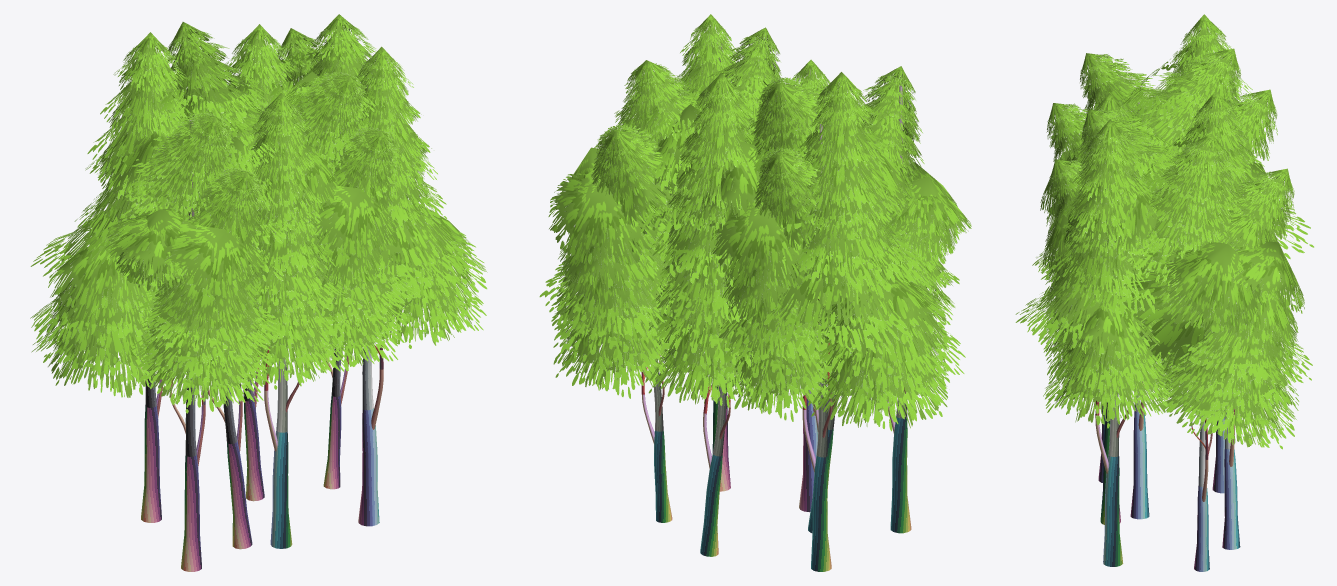
The model's file is forest.fbx.
3 views of the same model, side by side, from view 1: azimuth 30°, elevation 25°; view 2: azimuth 150°, elevation 25°; view 3: azimuth 270°, elevation 25° (orthographic). The views are drawn at different scales.
Parts seen in each view (by area): view 1: Cylinder.004, Cylinder.005, Cylinder.003, Cylinder.002, Cylinder.008, Cylinder.007, Cylinder.009, Cylinder.018, Cylinder.013, Cylinder, Cylinder.014, Cylinder.019 (+13 smaller); view 2: Cylinder.019, Cylinder.016, Cylinder.014, Cylinder.017, Cylinder.013, Cylinder.018, Cylinder.020, Cylinder.015, Cylinder.012, Cylinder.004, Cylinder.008, Cylinder.005 (+11 smaller); view 3: Cylinder.019, Cylinder.016, Cylinder.004, Cylinder.018, Cylinder.013, Cylinder.020, Cylinder.005, Cylinder.003, Cylinder.015, Cylinder.008, Cylinder.009, Cylinder.012 (+12 smaller).
Boxes of the visible parts, bbox=[...] form: Cylinder.004: bbox=[104, 175, 484, 367]; Cylinder.005: bbox=[116, 128, 446, 334]; Cylinder.003: bbox=[131, 188, 487, 387]; Cylinder.002: bbox=[136, 269, 486, 413]; Cylinder.008: bbox=[163, 75, 421, 233]; Cylinder.007: bbox=[146, 83, 431, 261]; Cylinder.009: bbox=[173, 66, 413, 222]; Cylinder.018: bbox=[113, 30, 376, 107]; Cylinder.013: bbox=[100, 47, 373, 140]; Cylinder: bbox=[185, 46, 405, 203]; Cylinder.014: bbox=[30, 228, 160, 363]; Cylinder.019: bbox=[30, 154, 409, 312]; Cylinder.019: bbox=[539, 170, 950, 363]; Cylinder.016: bbox=[558, 104, 920, 332]; Cylinder.014: bbox=[551, 223, 965, 398]; Cylinder.017: bbox=[553, 315, 949, 431]; Cylinder.013: bbox=[591, 84, 892, 225]; Cylinder.018: bbox=[594, 71, 876, 210]; Cylinder.020: bbox=[599, 95, 905, 256]; Cylinder.015: bbox=[597, 60, 867, 191]; Cylinder.012: bbox=[640, 87, 899, 245]; Cylinder.004: bbox=[654, 162, 971, 294]; Cylinder.008: bbox=[675, 45, 922, 157]; Cylinder.005: bbox=[682, 81, 961, 271]; Cylinder.019: bbox=[1113, 155, 1314, 388]; Cylinder.016: bbox=[1120, 85, 1298, 357]; Cylinder.004: bbox=[1015, 150, 1165, 359]; Cylinder.018: bbox=[1169, 30, 1295, 222]; Cylinder.013: bbox=[1148, 49, 1287, 239]; Cylinder.020: bbox=[1125, 89, 1272, 266]; Cylinder.005: bbox=[1045, 119, 1171, 310]; Cylinder.003: bbox=[1044, 271, 1166, 398]; Cylinder.015: bbox=[1180, 14, 1294, 203]; Cylinder.008: bbox=[1053, 71, 1157, 219]; Cylinder.009: bbox=[1047, 58, 1140, 205]; Cylinder.012: bbox=[1123, 61, 1271, 261].
Size of what is drawn, in the model's own units: 2313 by 2731 by 1640.
